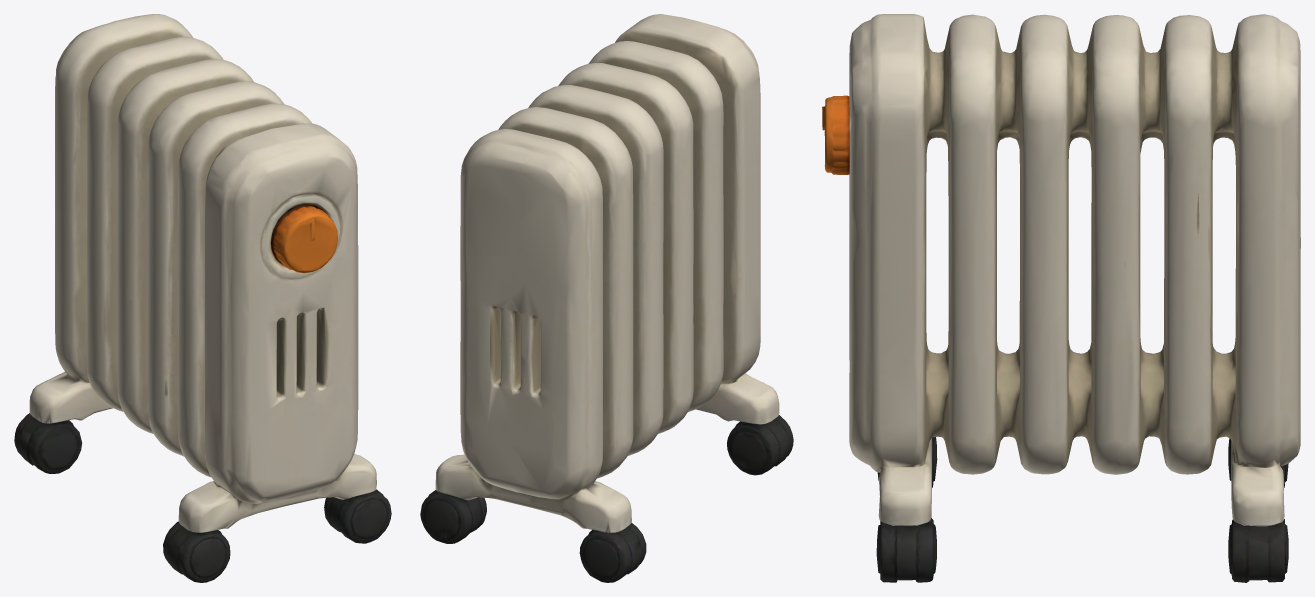
File: heater.glb
3 renders of one model, left to right at view 1: azimuth 30°, elevation 25°; view 2: azimuth 150°, elevation 25°; view 3: azimuth 270°, elevation 25°, orthographic. The views are drawn at different scales.
Visible parts, largest first — view 1: tripo_node_d0335894-8f5f-4eb0-9e46-8ceddb64ba80; view 2: tripo_node_d0335894-8f5f-4eb0-9e46-8ceddb64ba80; view 3: tripo_node_d0335894-8f5f-4eb0-9e46-8ceddb64ba80.
Boxes of the visible parts, x1,y1,x2,y2 form: tripo_node_d0335894-8f5f-4eb0-9e46-8ceddb64ba80: (14,14,391,582); tripo_node_d0335894-8f5f-4eb0-9e46-8ceddb64ba80: (420,14,793,582); tripo_node_d0335894-8f5f-4eb0-9e46-8ceddb64ba80: (822,14,1300,582).
Size of the model in its own units: 0.5218 by 1 by 0.8644.
Materials: 1 (1 with a texture image).
